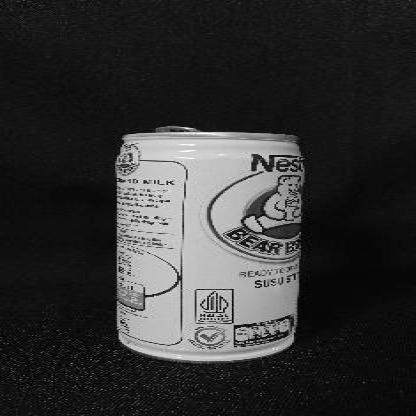alumunium_can: (115, 127, 305, 364)
